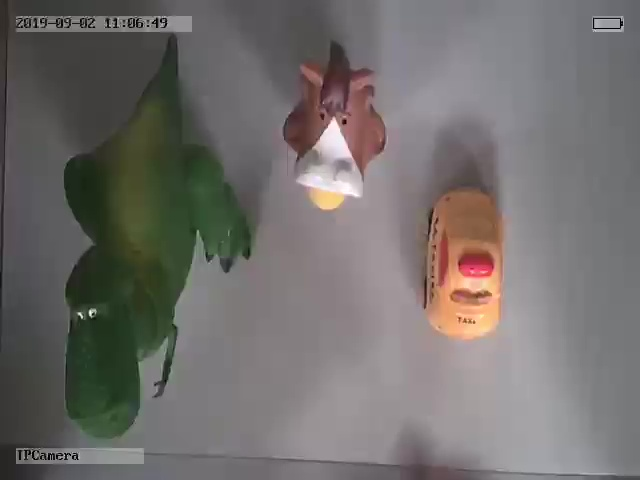car: (424, 186, 508, 343)
horse: (282, 41, 386, 211)
rex: (63, 61, 251, 438)
